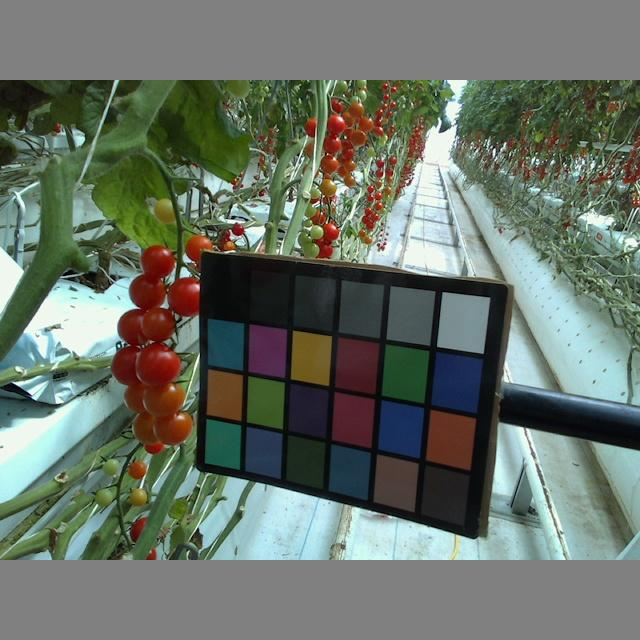green: (152, 195, 180, 226), (101, 455, 121, 478), (94, 486, 113, 506), (130, 488, 146, 507)
pink: (142, 379, 185, 414), (151, 408, 192, 443), (133, 412, 169, 444), (183, 231, 212, 263), (127, 459, 147, 481)
red: (135, 343, 180, 385), (167, 277, 208, 317), (110, 344, 150, 385), (119, 306, 156, 346), (128, 272, 164, 311), (139, 242, 174, 279), (140, 306, 174, 340)
